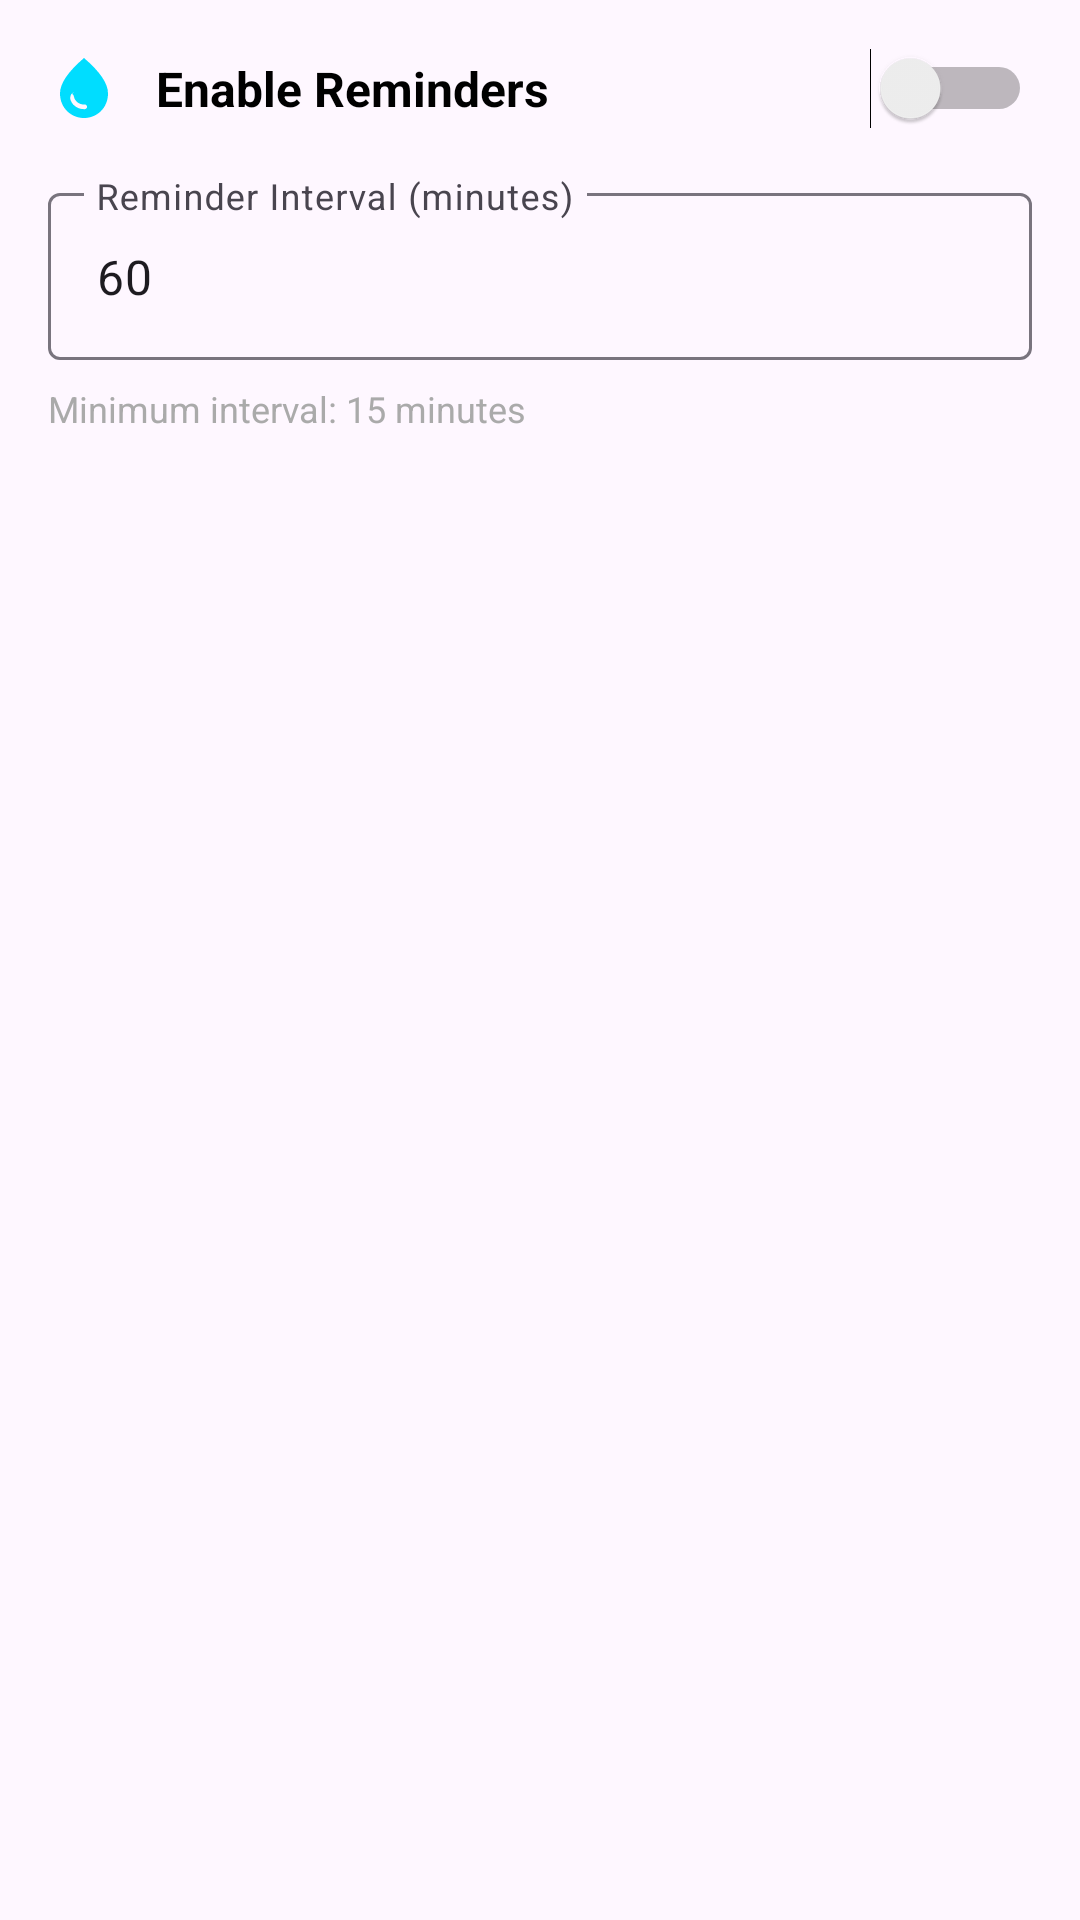

Point at icon controls on the screen. Image size 1080 x 1920, points as [x,y].
water: [84,88]
